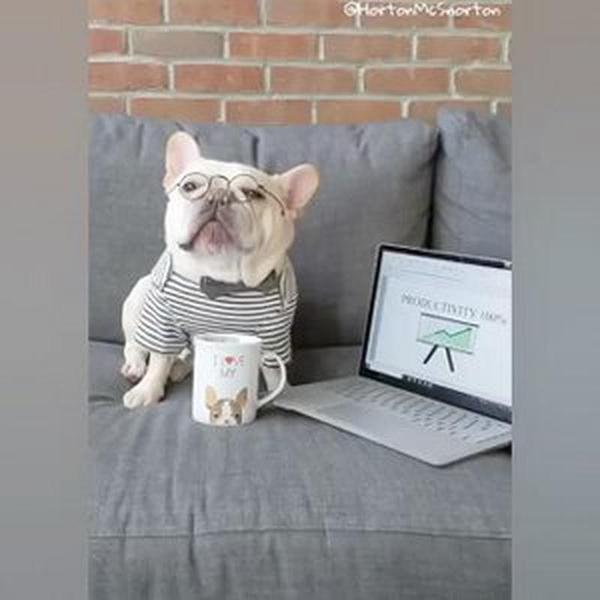allqu: (114, 116, 322, 429)
